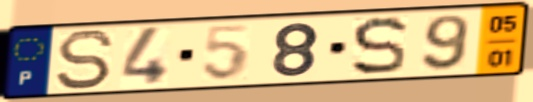4: (118, 24, 172, 90)
5: (200, 24, 252, 83)
8: (271, 21, 320, 79)
9: (418, 12, 471, 73)
S: (53, 28, 117, 92), (349, 14, 411, 78)
